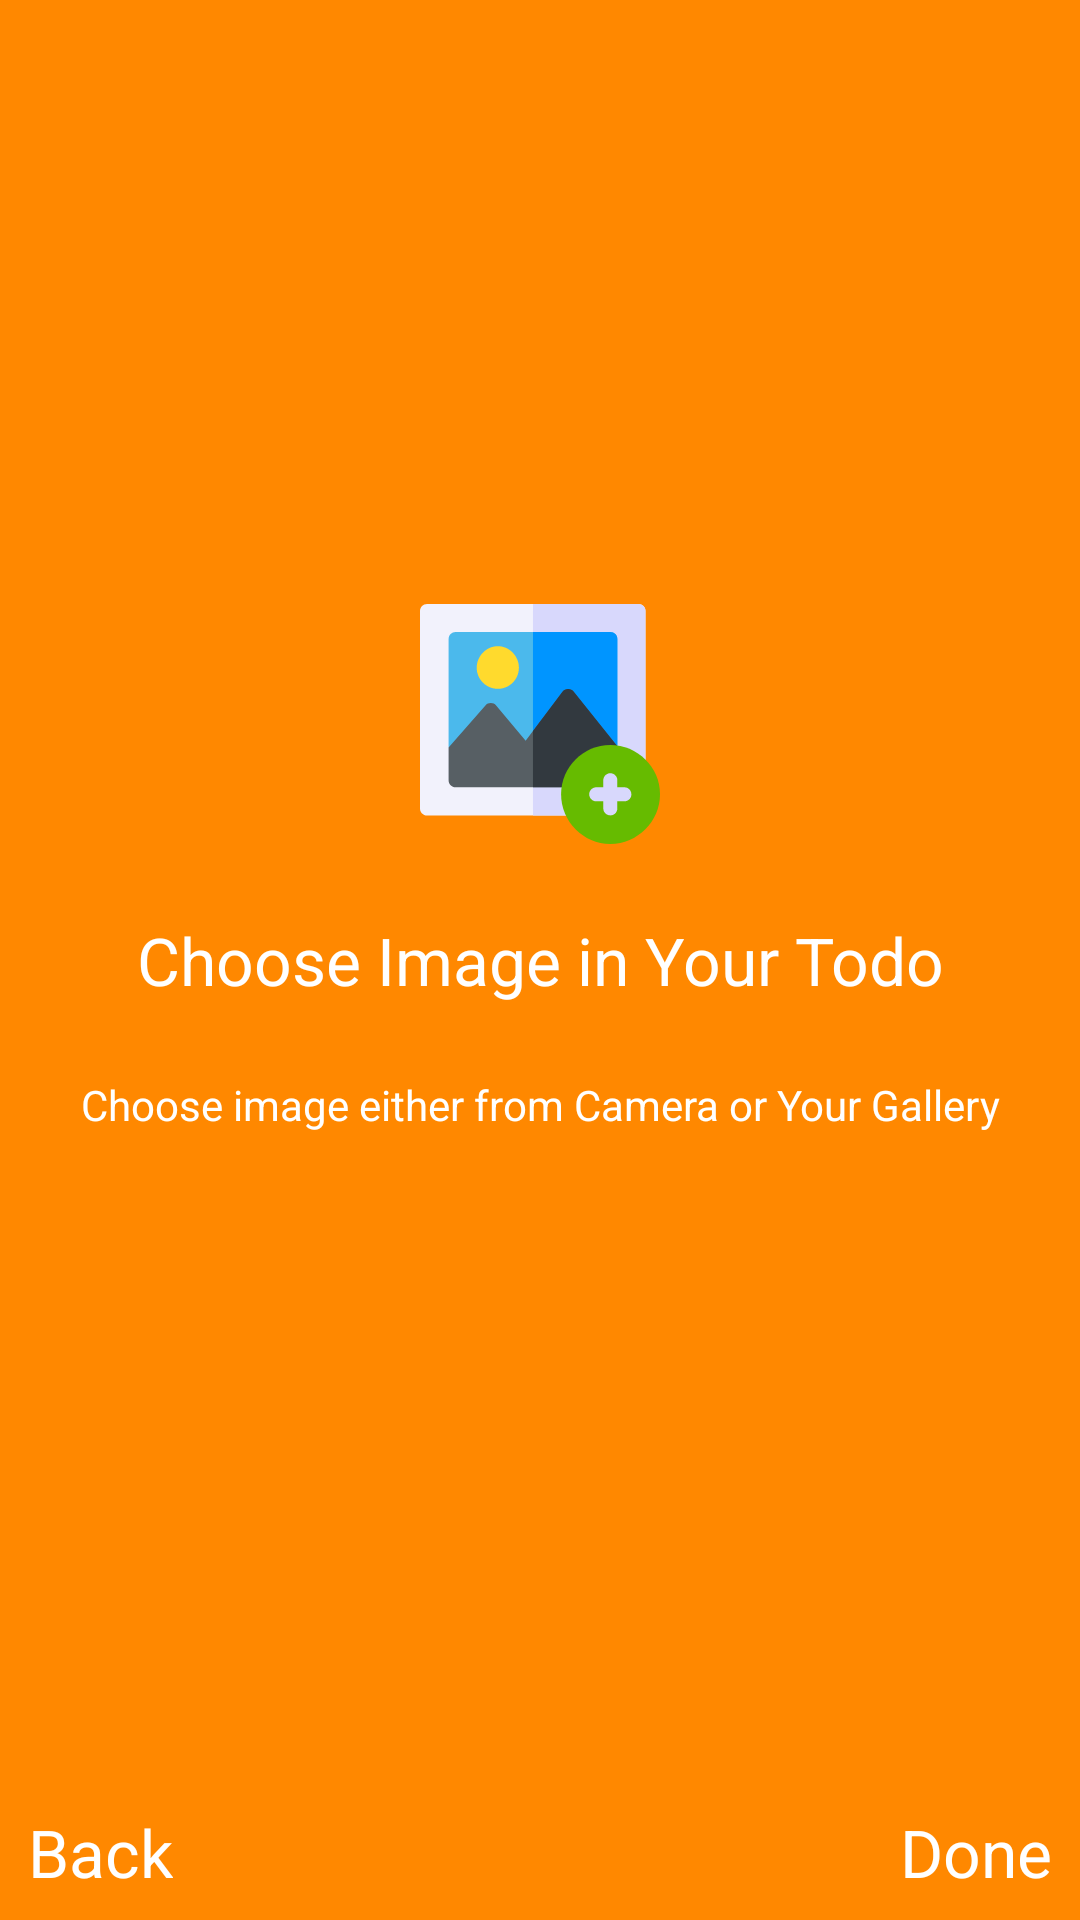

Point at icon controls on the screen. Image size 1080 × 1920, points as (x,y).
addimage: (540,724)
